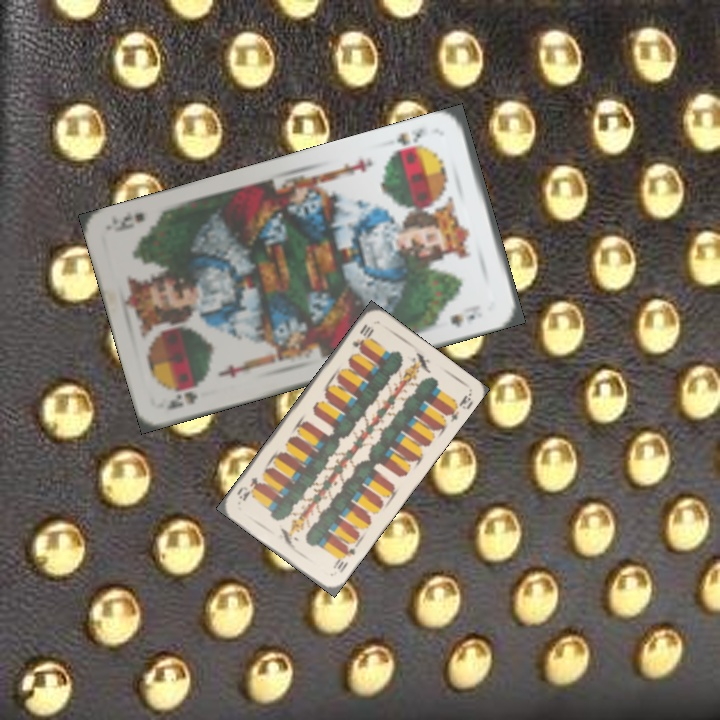E10: (348, 320, 377, 357), (329, 542, 358, 576)
SK: (388, 124, 431, 159), (163, 381, 201, 413)
